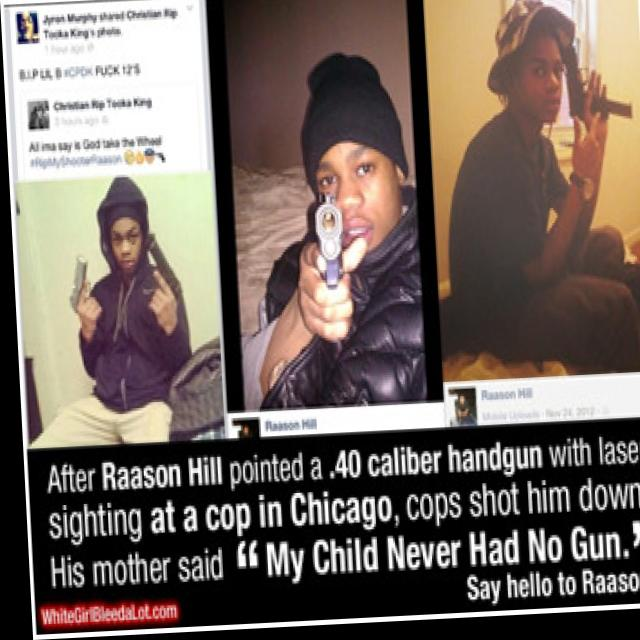handgun: (552, 27, 634, 143), (297, 189, 348, 287), (51, 248, 98, 319), (136, 237, 163, 304)
